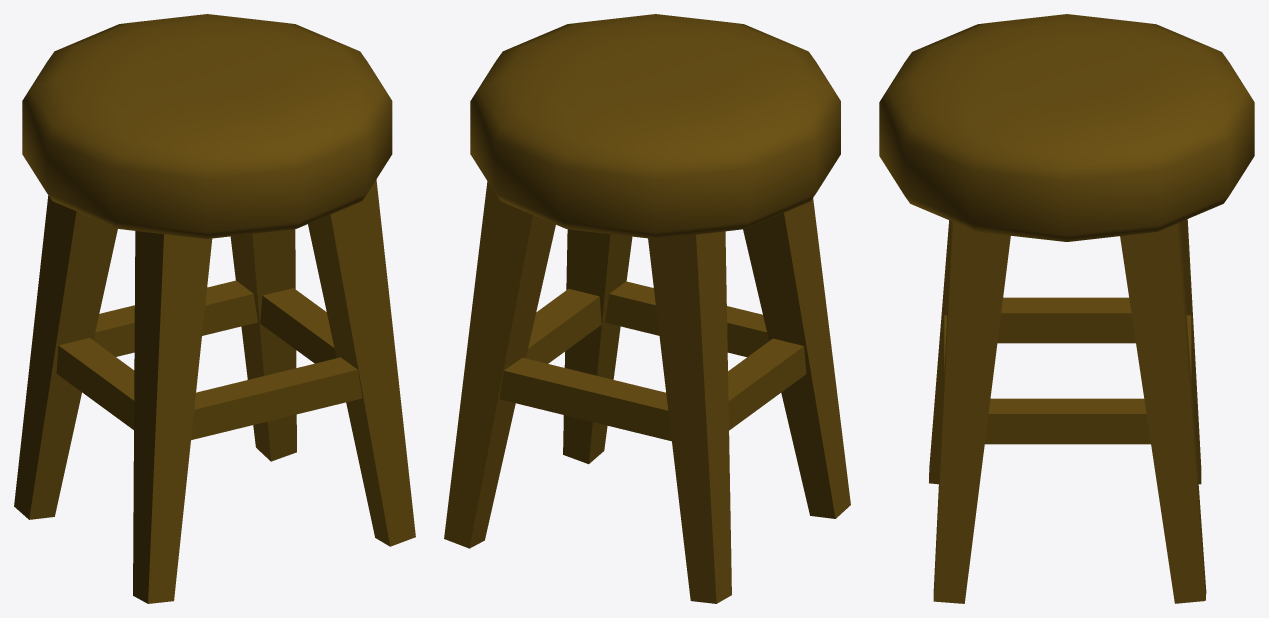
Rendered from Hocker.fbx.
The picture shows the model from 3 angles, left to right: view 1: azimuth 30°, elevation 25°; view 2: azimuth 150°, elevation 25°; view 3: azimuth 270°, elevation 25°; orthographic projection.
Visible parts, largest first — view 1: Hocker; view 2: Hocker; view 3: Hocker.
Part boxes in pixels (x1,y1,x2,y2): Hocker: [14, 14, 415, 603]; Hocker: [444, 14, 850, 603]; Hocker: [879, 14, 1254, 603].
Size of the model in its own units: 0.5681 by 0.7801 by 0.5681.
